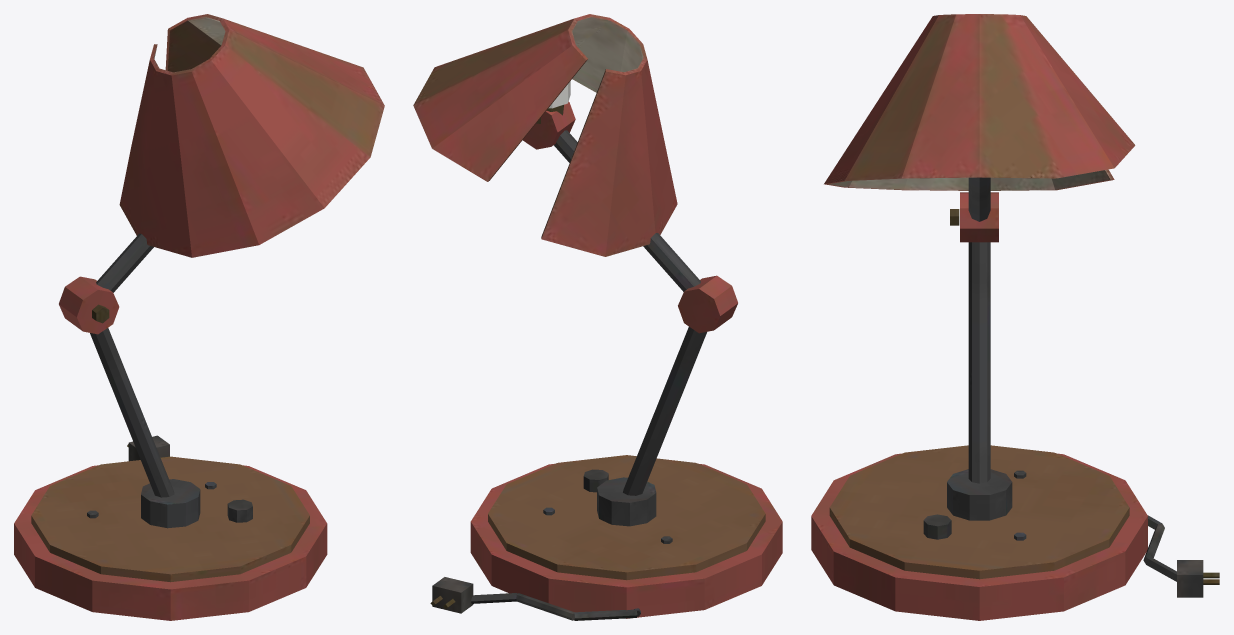
The model's file is BR32_broken_lamp_v3.glb.
The picture shows the model from 3 angles, left to right: view 1: azimuth 30°, elevation 25°; view 2: azimuth 150°, elevation 25°; view 3: azimuth 270°, elevation 25°; orthographic projection. The views are drawn at different scales.
Visible parts, largest first — view 1: Weighted circular foot; view 2: Weighted circular foot; view 3: Weighted circular foot.
Boxes of the visible parts, box(x1,y1,x2,y2) form: Weighted circular foot: box(14, 14, 384, 620); Weighted circular foot: box(413, 14, 782, 620); Weighted circular foot: box(811, 14, 1219, 620).
Bounding box in the file's own units: 0.3282 × 0.5 × 0.3286.
7 materials, 7 textured.
